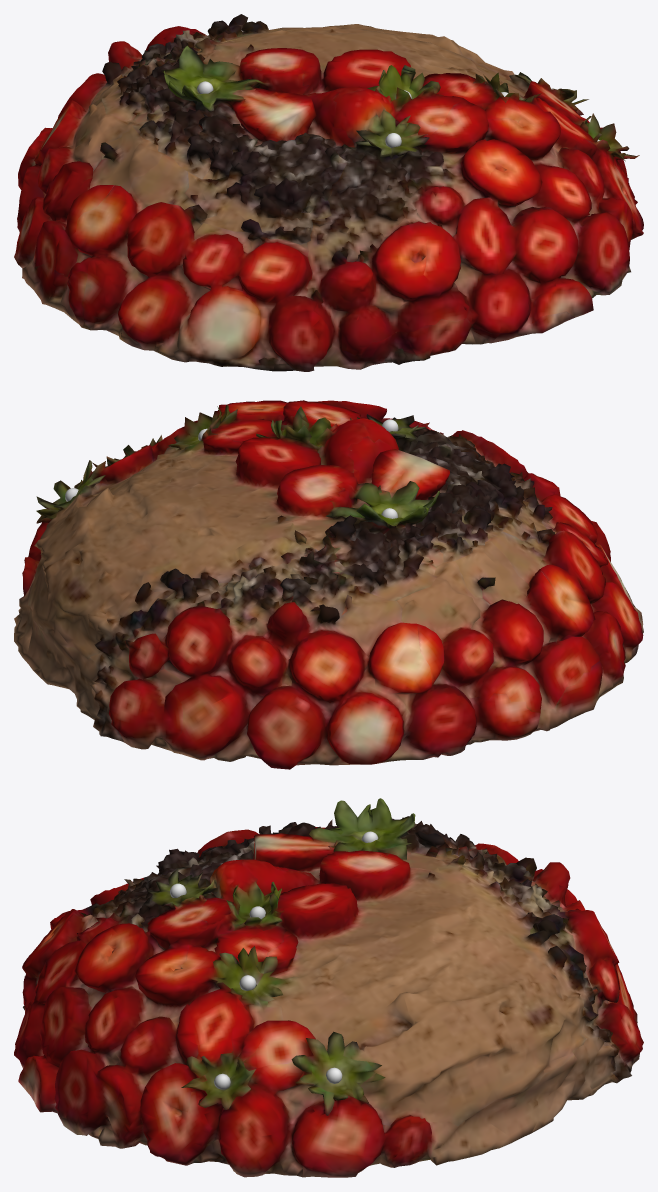
Rendered from strawberry_chocolate_cake.glb.
The picture shows the model from 3 angles, top to bottom: view 1: azimuth 30°, elevation 25°; view 2: azimuth 150°, elevation 25°; view 3: azimuth 270°, elevation 25°; orthographic projection. The views are drawn at different scales.
Visible parts, largest first — view 1: strawberry_chocolate_cake; view 2: strawberry_chocolate_cake; view 3: strawberry_chocolate_cake.
Part boxes in pixels (bbox=[...]): strawberry_chocolate_cake: bbox=[14, 14, 643, 371]; strawberry_chocolate_cake: bbox=[14, 400, 643, 769]; strawberry_chocolate_cake: bbox=[14, 798, 643, 1177].
Bounding box in the file's own units: 0.2443 × 0.0792 × 0.2403.
1 material, 1 textured.
